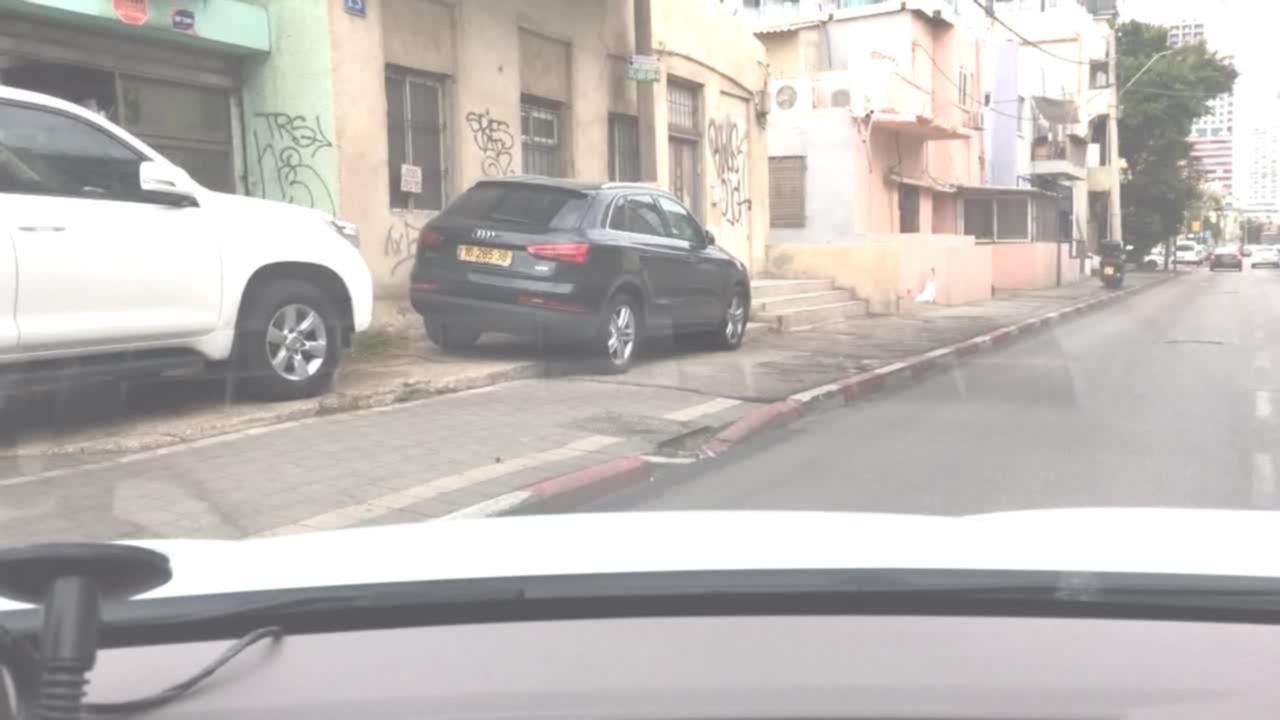Audi: (467, 223, 504, 248)
